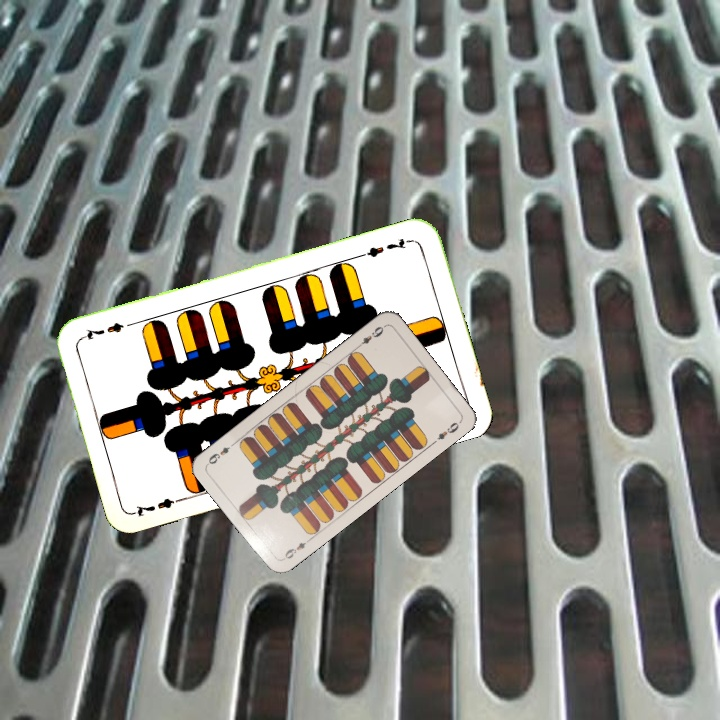E7: (130, 492, 188, 520), (357, 234, 415, 260)
E9: (353, 322, 387, 351), (279, 538, 309, 562)
